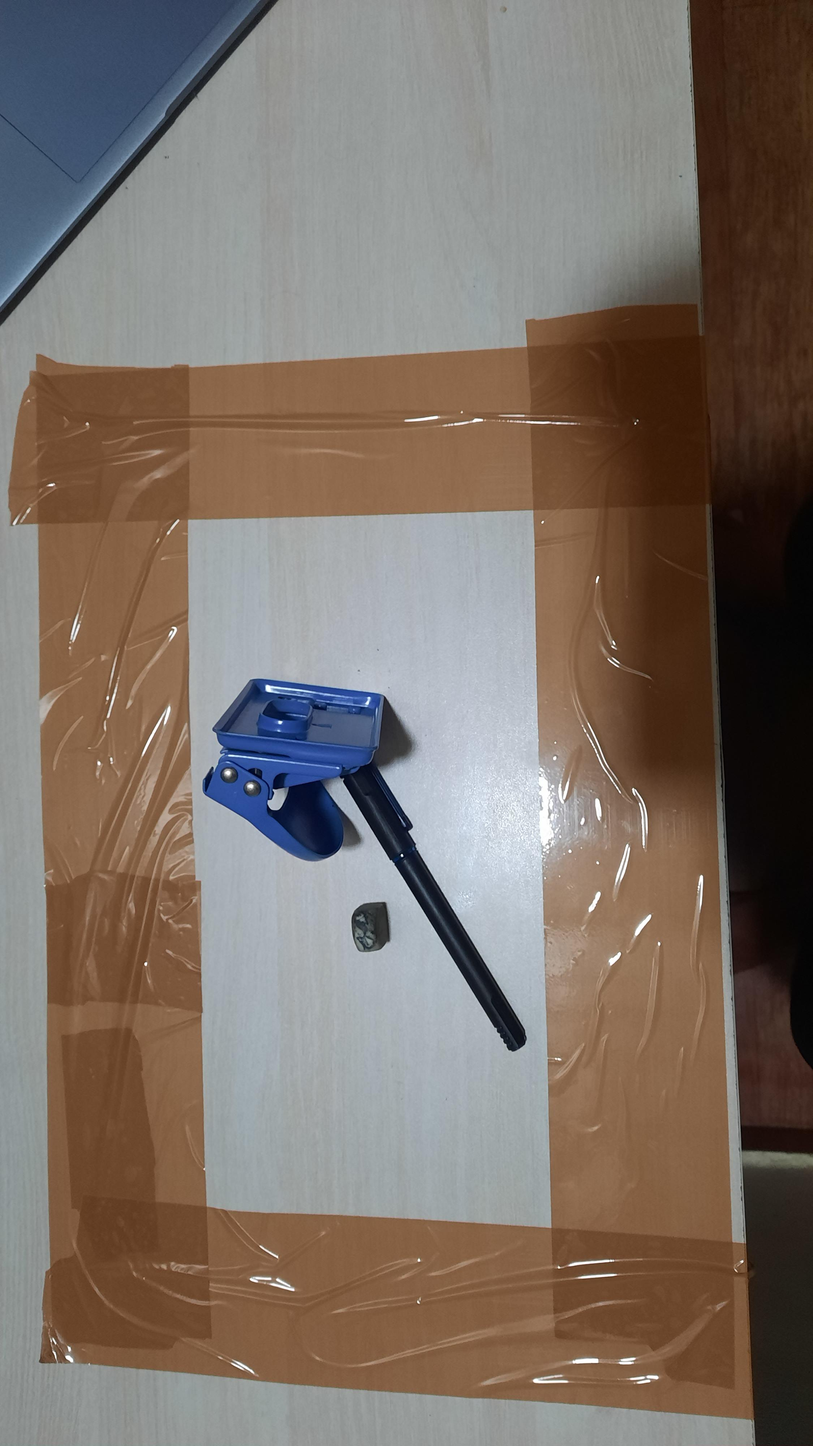Eraser: (351, 902, 391, 953)
Pen: (339, 761, 527, 1053)
Punch: (202, 678, 387, 862)
